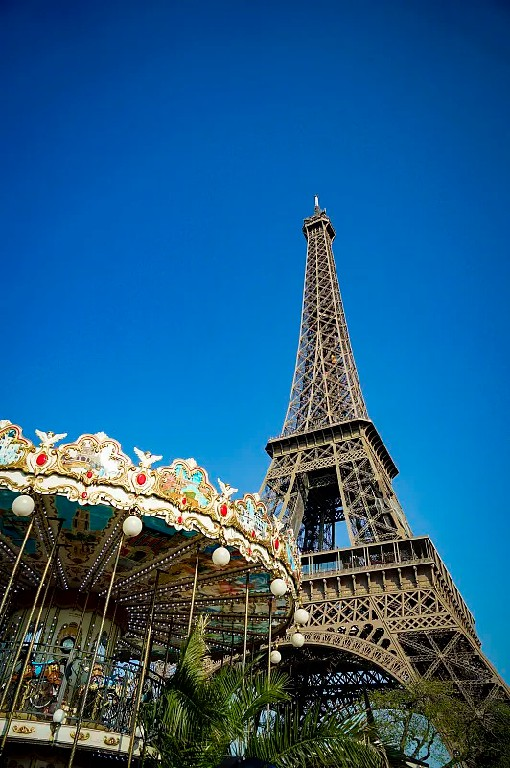Eiffel: (255, 194, 509, 768)
